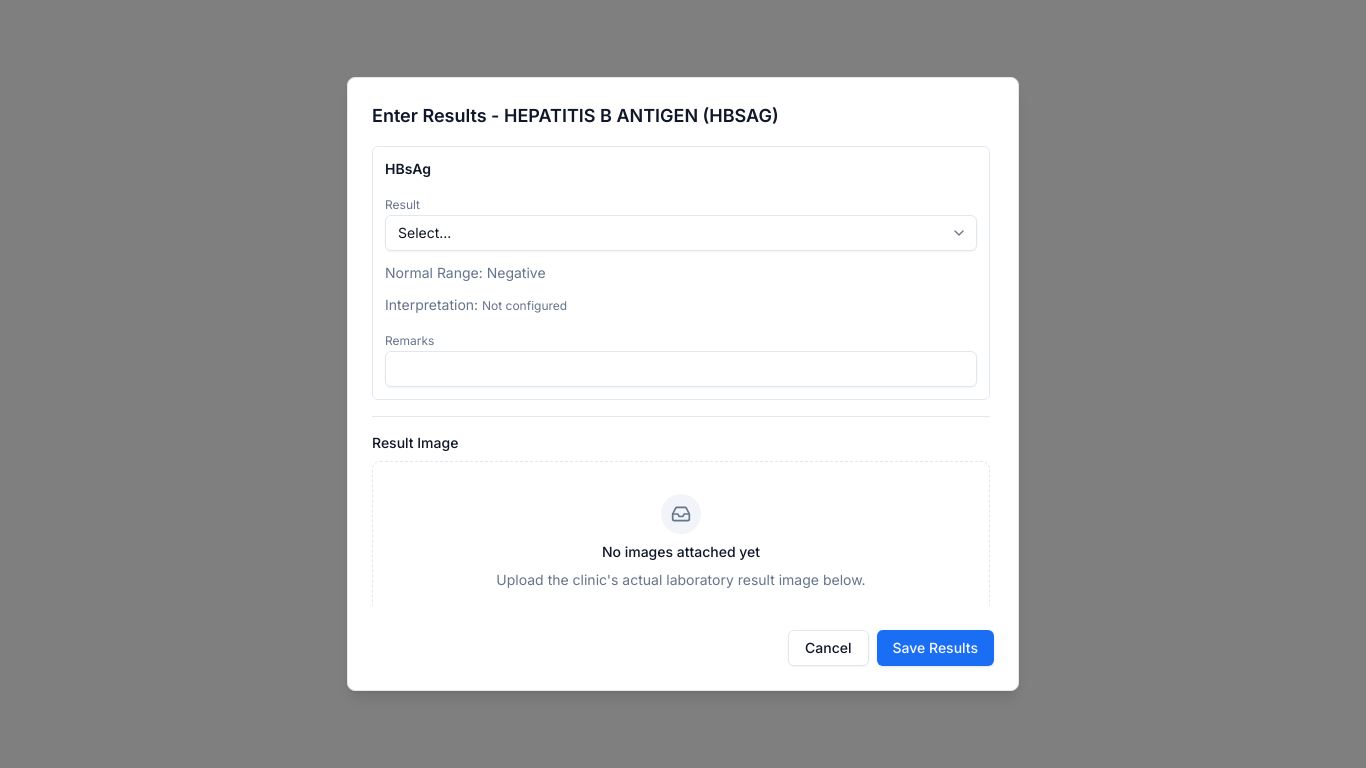
Test: ResultEntryDialog › Qualitative/Categorical result-entry simplification (HBsAg example) › selecting Positive sets Result=Positive and auto-derives Interpretation=Abnormal
Step 1. Select "Positive" in the dropdown → (681, 233), box [385,215,977,251]
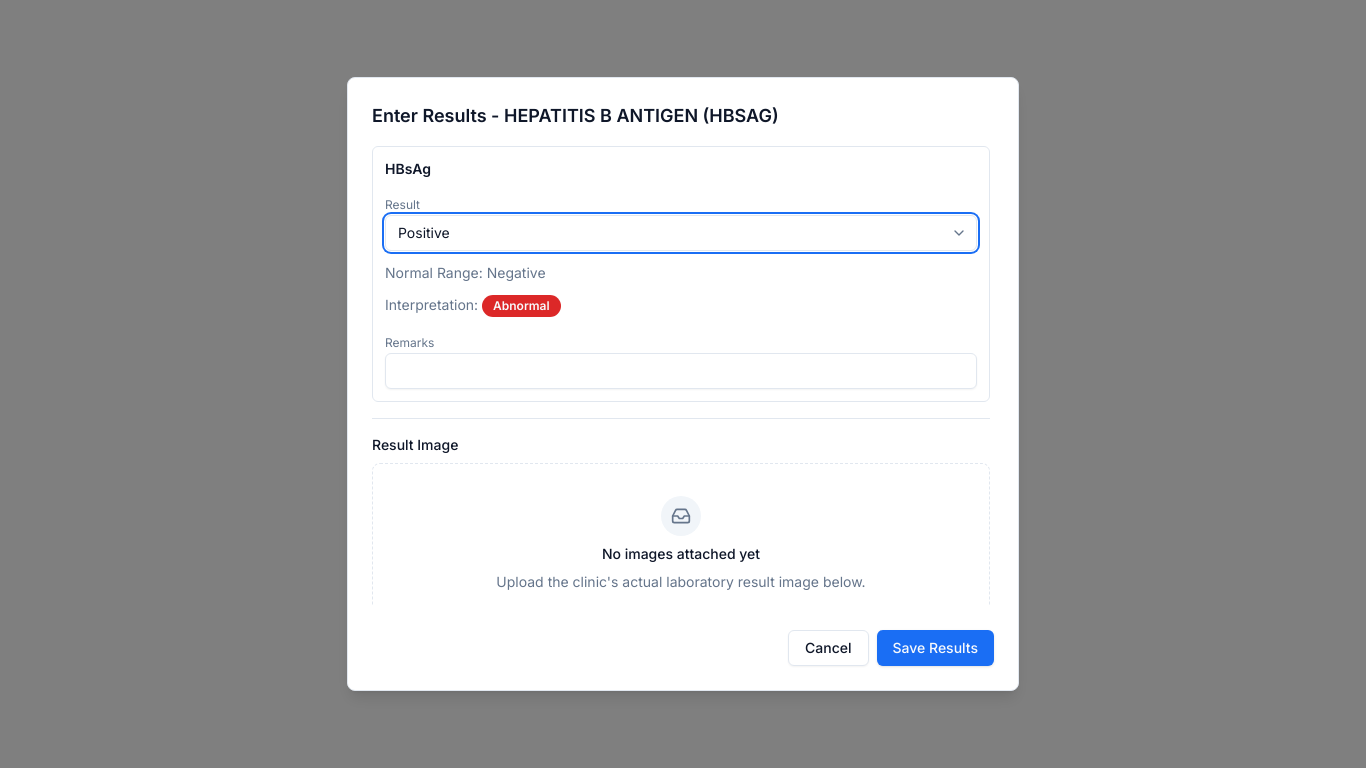
Now the text "Abnormal" is shown, box [482,295,561,317]
